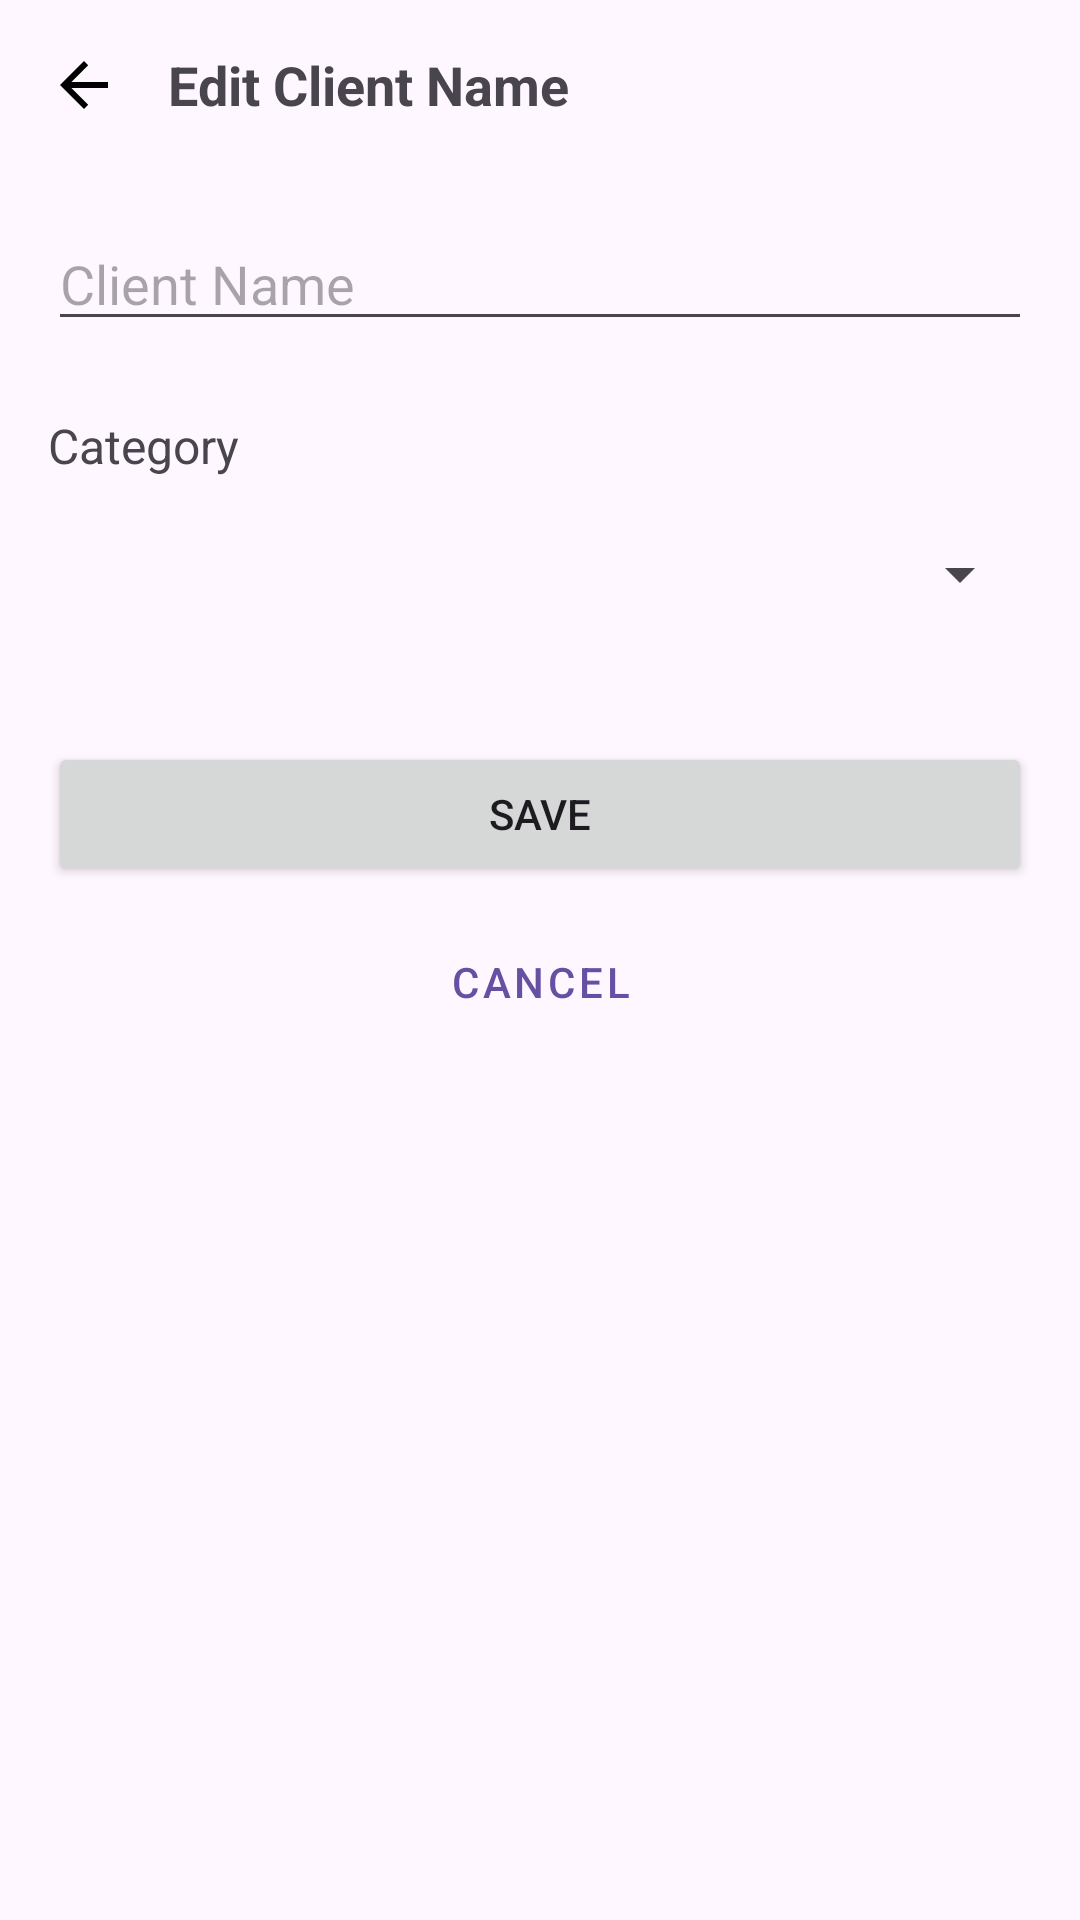

Icon bounding boxes for this 1080px x 1920px phone screenshot, format box(x1, y1, x2, y2):
Back: box(60, 61, 108, 109)
